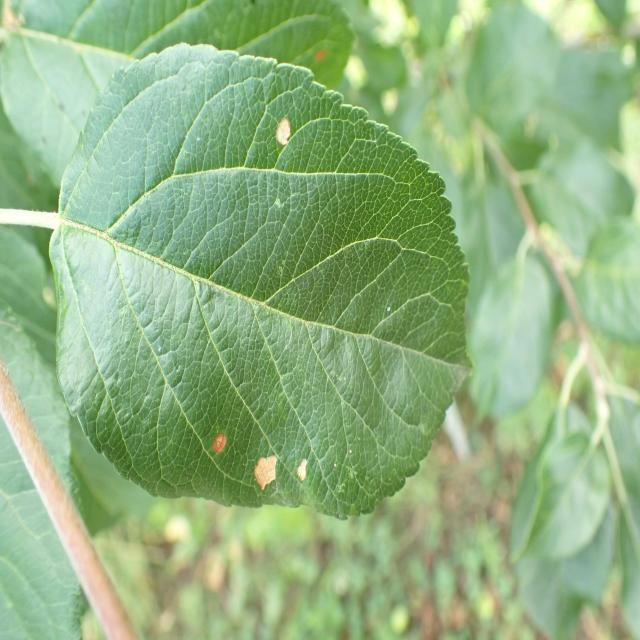frog-eye-leaf-spot: (50, 43, 475, 520)
